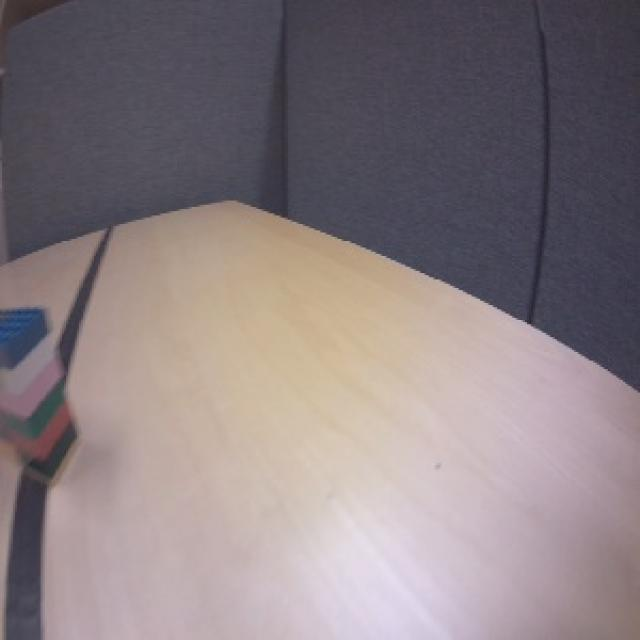obstacle: (1, 304, 87, 492)
